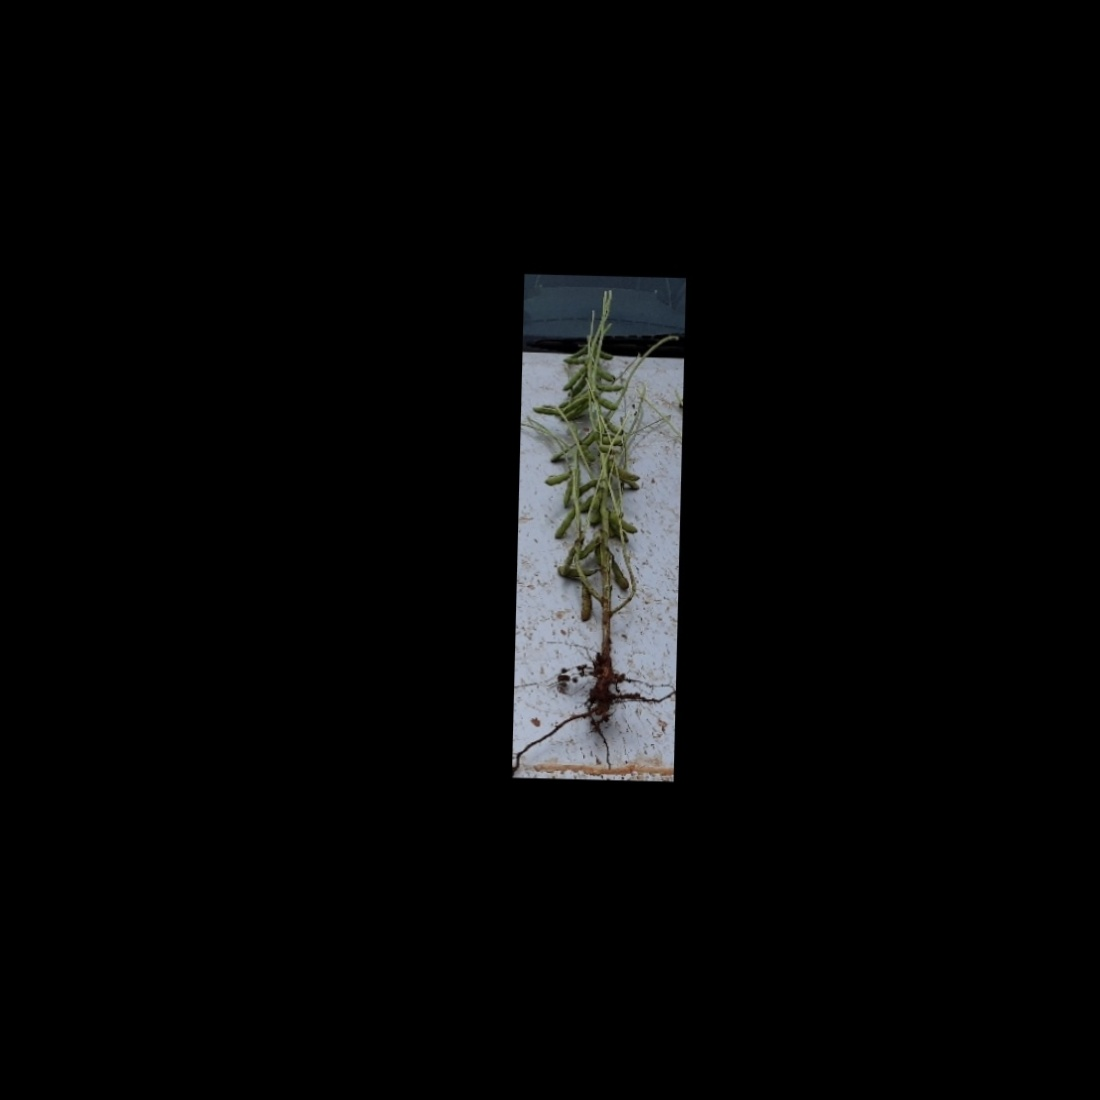pod: (549, 503, 581, 545), (602, 547, 630, 593), (573, 578, 596, 628), (559, 362, 588, 396), (539, 466, 577, 490), (570, 478, 600, 501), (593, 395, 620, 413), (591, 381, 625, 393), (561, 352, 591, 365)
soy: (519, 282, 679, 710)
